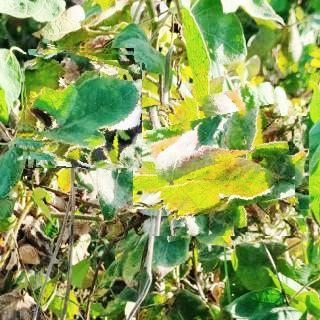blight: (147, 88, 295, 236)
curl: (20, 44, 142, 168)
